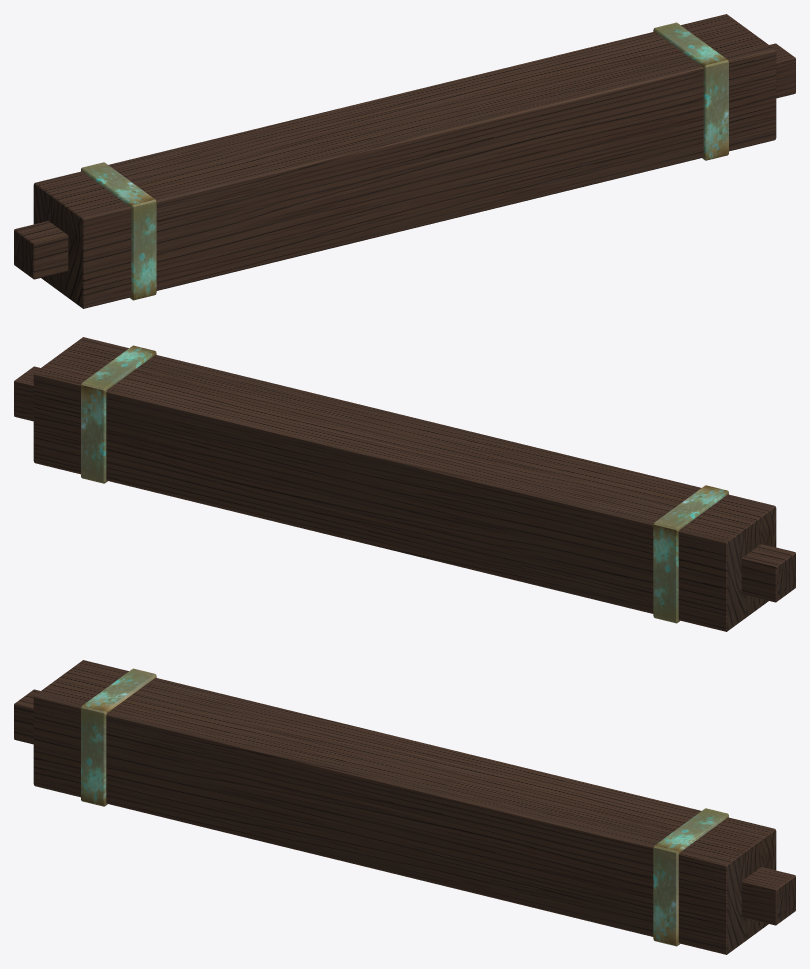
File: TenonedBeam.fbx
3 renders of one model, top to bottom at view 1: azimuth 30°, elevation 25°; view 2: azimuth 150°, elevation 25°; view 3: azimuth 330°, elevation 25°, orthographic.
Visible parts, largest first — view 1: TenonedBeam; view 2: TenonedBeam; view 3: TenonedBeam.
Part boxes in pixels (x1,y1,x2,y2): TenonedBeam: (14, 14, 795, 308); TenonedBeam: (14, 337, 795, 631); TenonedBeam: (14, 660, 795, 954).
Bounding box in the file's own units: 264 × 31.6 × 31.6.
1 material, 1 textured.
